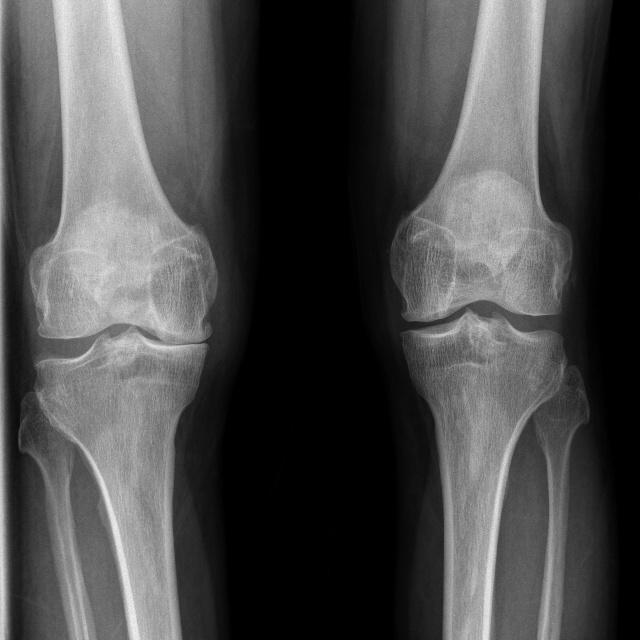Knee: (22, 214, 219, 427), (385, 205, 573, 401)
